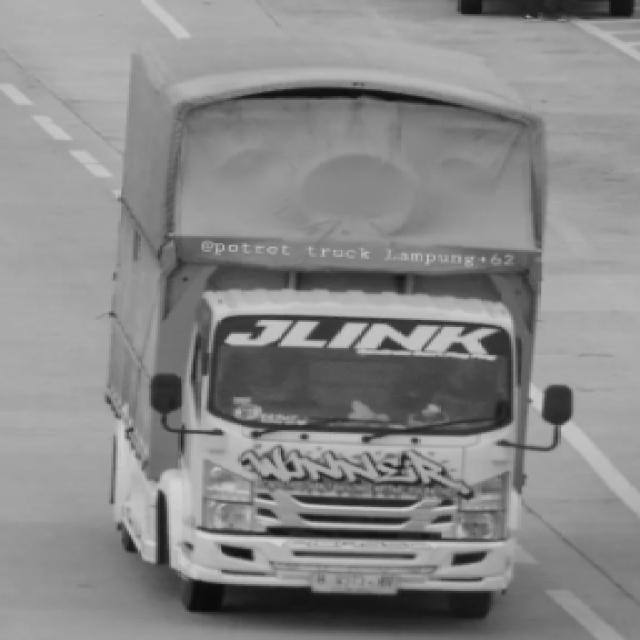Truck: (88, 24, 588, 627)
